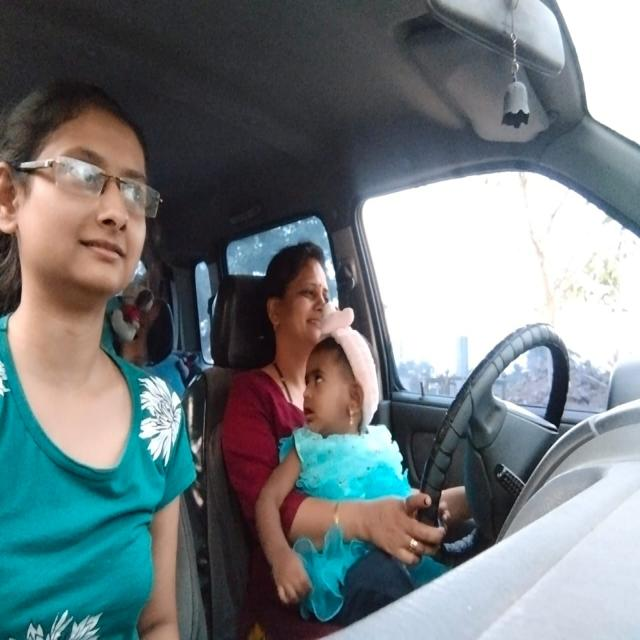child: (296, 327, 376, 437)
person: (0, 84, 163, 312), (259, 230, 336, 347)
